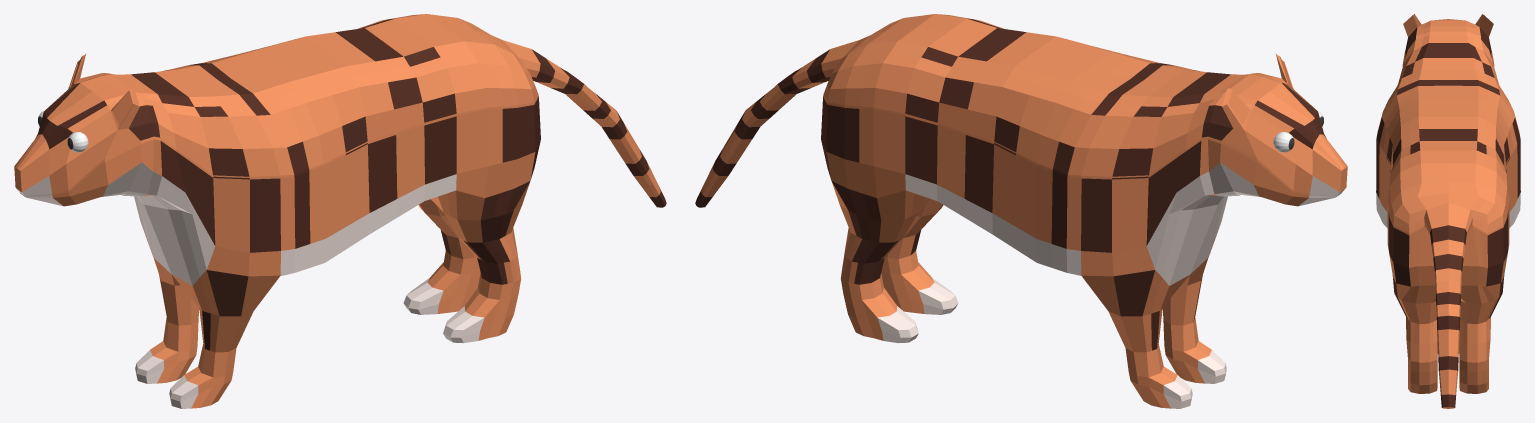
The model's file is Harimau imut.fbx.
The picture shows the model from 3 angles, left to right: view 1: azimuth 30°, elevation 25°; view 2: azimuth 150°, elevation 25°; view 3: azimuth 270°, elevation 25°; orthographic projection. The views are drawn at different scales.
Visible parts, largest first — view 1: Sphere; view 2: Sphere; view 3: Sphere.
Boxes of the visible parts, x1,y1,x2,y2 form: Sphere: (14, 14, 666, 408); Sphere: (695, 14, 1347, 408); Sphere: (1376, 14, 1520, 408).
Size of the model in its own units: 446 by 220 by 118.
